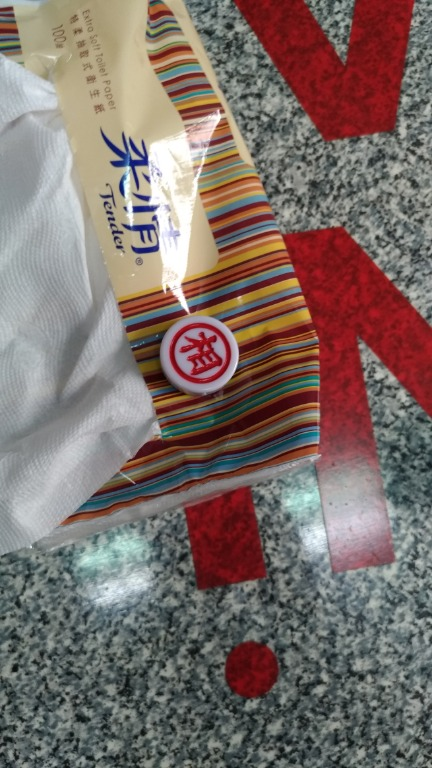r-elephant: (146, 303, 269, 404)
